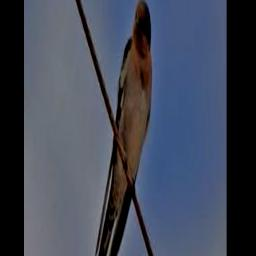Swallow: (91, 0, 153, 256)
